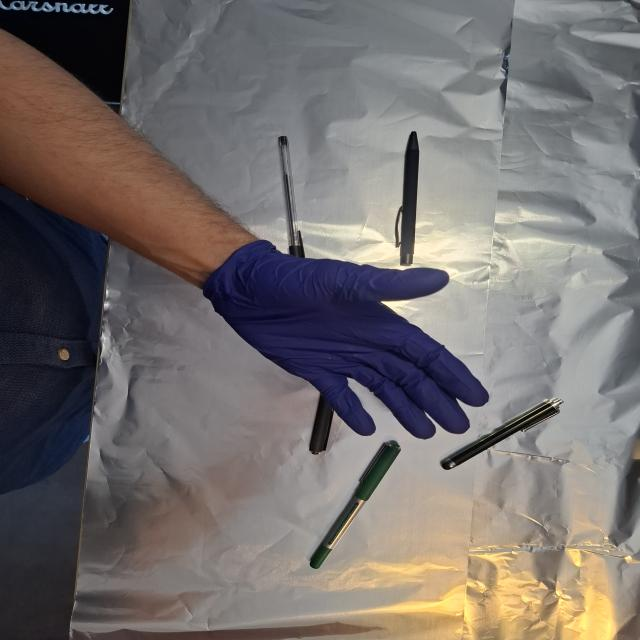glove_on: (198, 240, 492, 441)
